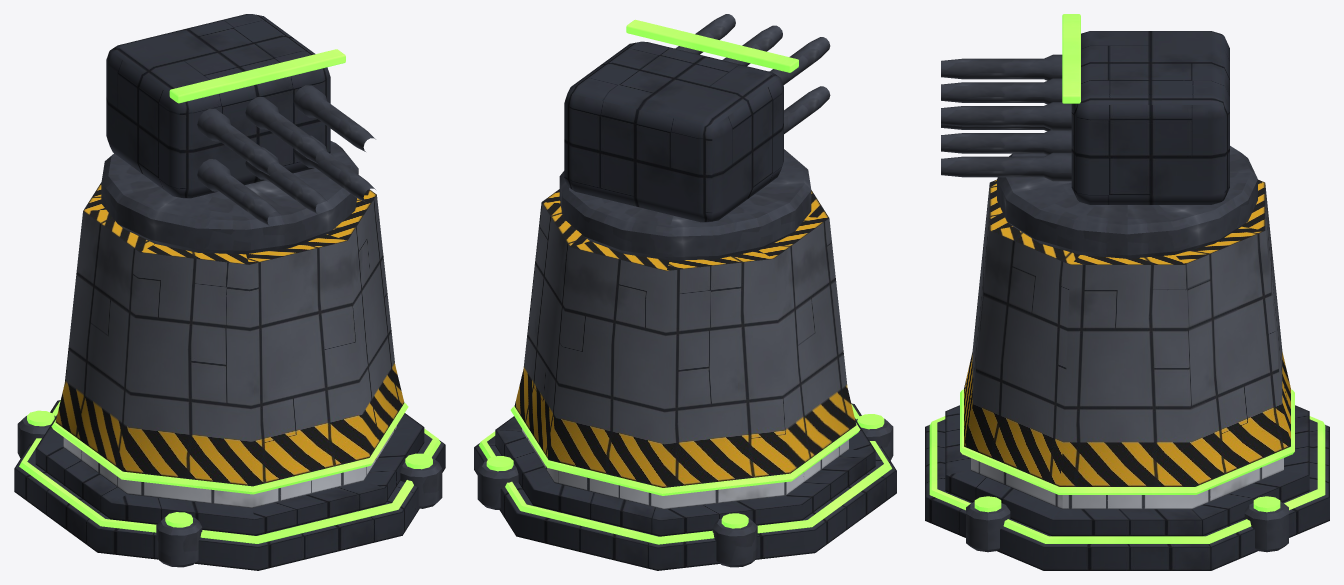
File: sf_thornwood.glb
The picture shows the model from 3 angles, left to right: view 1: azimuth 30°, elevation 25°; view 2: azimuth 150°, elevation 25°; view 3: azimuth 270°, elevation 25°; orthographic projection. The views are drawn at different scales.
Parts seen in each view (by area): view 1: Base, Turret; view 2: Base, Turret; view 3: Base, Turret.
Part boxes in pixels (x1,y1,x2,y2): Base: (14, 182, 445, 570); Turret: (101, 14, 375, 254); Base: (474, 189, 896, 570); Turret: (559, 14, 830, 260); Base: (925, 179, 1329, 570); Turret: (941, 14, 1257, 258).
Size of the model in its own units: 0.8684 by 1.02 by 0.8684.
5 materials, 5 textured.
